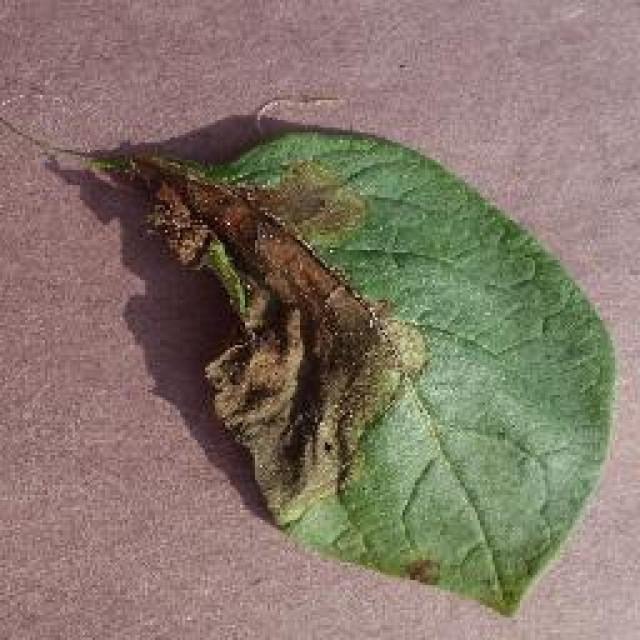Potato___Late_blight: (92, 129, 620, 622)
